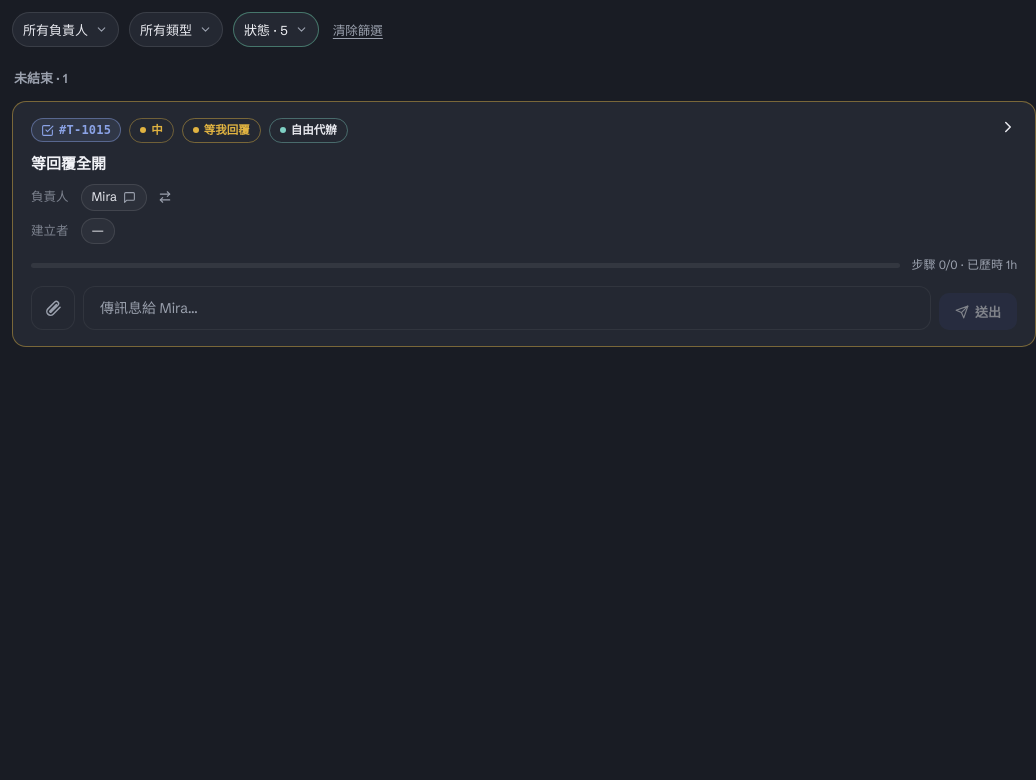
Test: TaskCard 卡綁 step › keeps a WAITING card fully open (the collapse applies to answered cards only)
Click the button with test id "task-card" at (524, 332), box [12,100,1035,347]
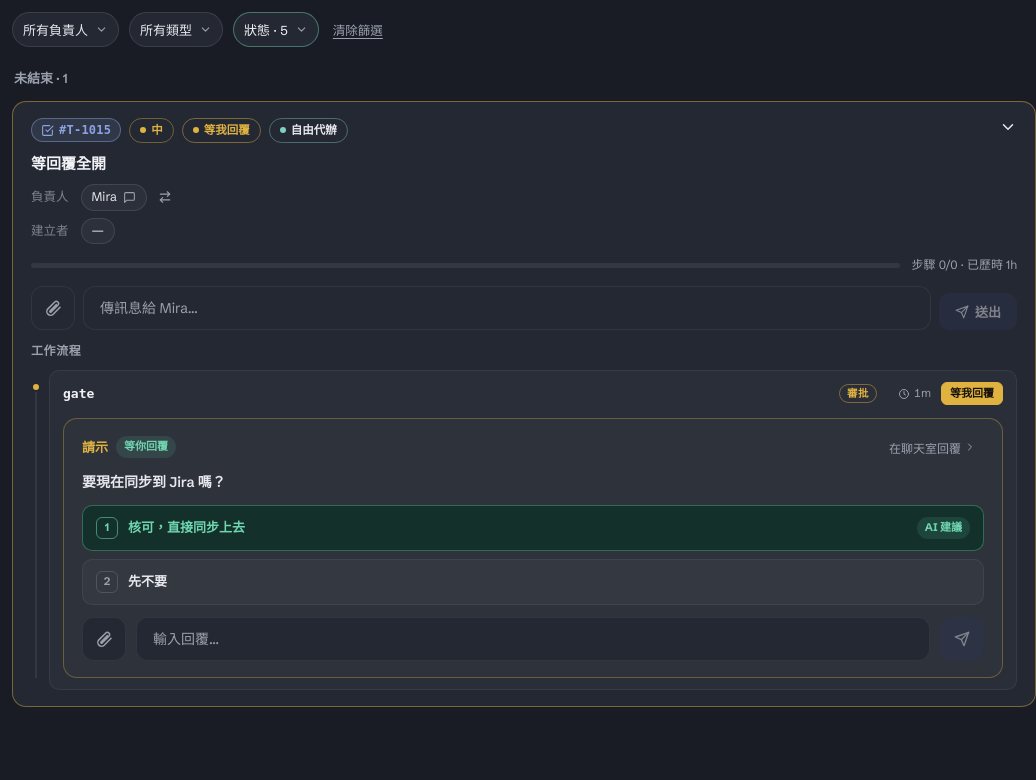
Expected: the number of buttons with class "reply-option" is 2, [82,505,984,551]; [82,559,984,605]
